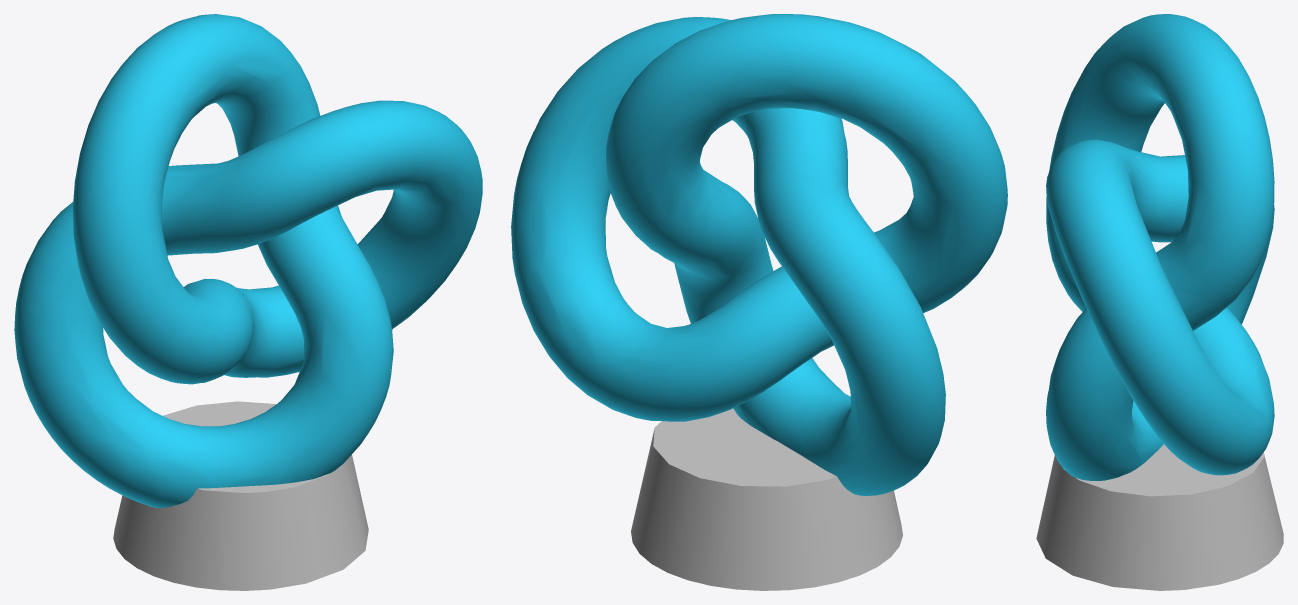
File: torus-knot-sculpture.glb
3 views of the same model, side by side, from view 1: azimuth 30°, elevation 25°; view 2: azimuth 150°, elevation 25°; view 3: azimuth 270°, elevation 25° (orthographic). The views are drawn at different scales.
Parts seen in each view (by area): view 1: Knot, Pedestal; view 2: Knot, Pedestal; view 3: Knot, Pedestal.
Part boxes in pixels (bbox=[...]): Knot: bbox=[14, 14, 482, 507]; Pedestal: bbox=[113, 401, 368, 590]; Knot: bbox=[511, 14, 1007, 495]; Pedestal: bbox=[631, 408, 902, 590]; Knot: bbox=[1046, 14, 1274, 480]; Pedestal: bbox=[1036, 444, 1283, 590].
Size of the model in its own units: 0.9846 by 1.13 by 0.5187.
